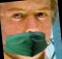good: (0, 0, 59, 59)
